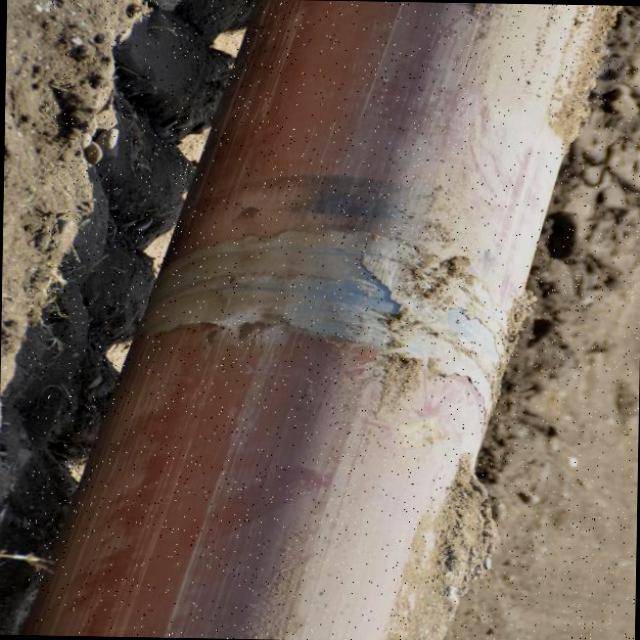gas: (25, 0, 595, 640)
